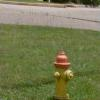Hydrant: (47, 38, 80, 100)
